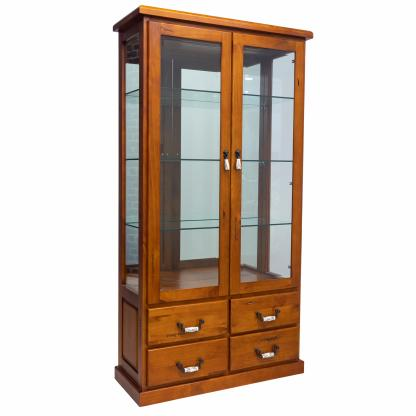Cupboard: (108, 7, 314, 411)
